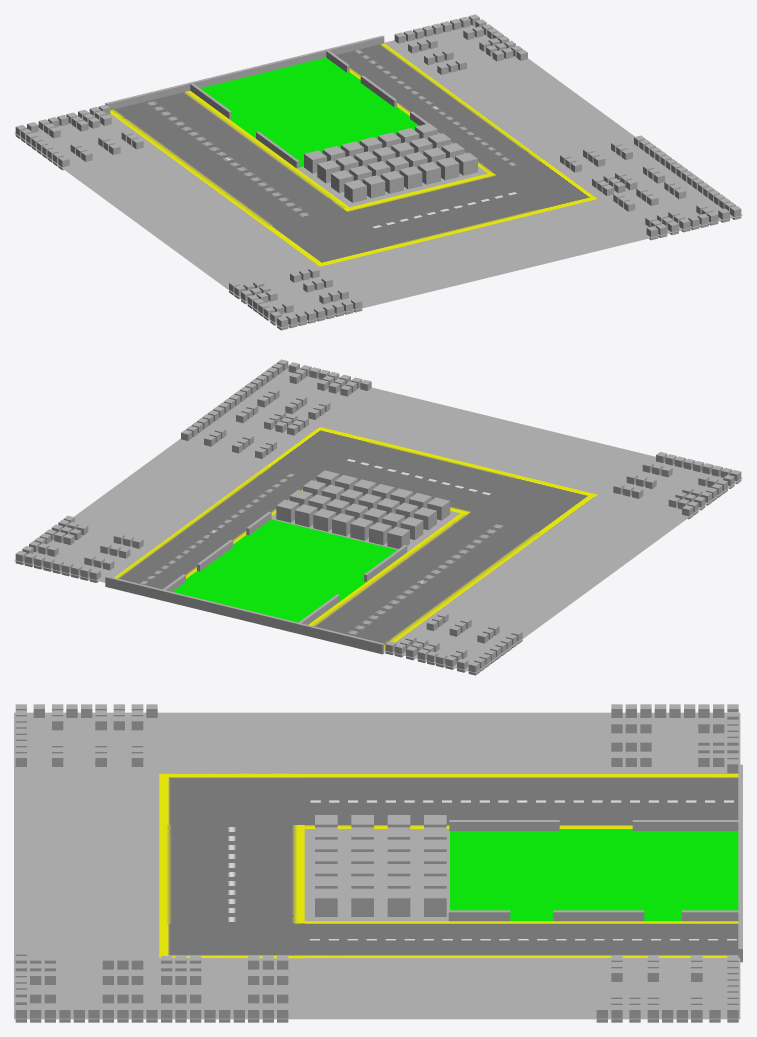
The model's file is map.fbx.
3 renders of one model, top to bottom at view 1: azimuth 30°, elevation 25°; view 2: azimuth 150°, elevation 25°; view 3: azimuth 270°, elevation 25°, orthographic. The views are drawn at different scales.
Parts seen in each view (by area): view 1: alley_Top, alley_Left, Road1, Park.001, alley_Right, Road3, Road2, Road5, pPlane1.002, pPlane1.004, pPlane1.003, Road4 (+5 smaller); view 2: alley_Top, alley_Left, Park.001, Road1, alley_Right, Road3, Road2, Road5, pPlane1.002, pPlane1.001, Road4, pPlane1 (+6 smaller); view 3: alley_Left, alley_Top, Park.001, Road1, alley_Right, Road3, Road2, Road5, pPlane1, pPlane1.003, pPlane, pPlane1.004 (+12 smaller).
Boxes of the visible parts, x1,y1,x2,y2 form: alley_Top: (320,199,650,305); alley_Left: (67,149,319,289); Road1: (110,91,349,227); Park.001: (200,57,418,167); alley_Right: (437,59,634,159); Road3: (336,43,543,173); Road2: (344,172,545,247); Road5: (266,209,396,266); pPlane1.002: (545,138,681,198); pPlane1.004: (14,113,159,171); pPlane1.003: (384,24,528,81); Road4: (493,160,596,211); alley_Top: (320,388,650,494); alley_Left: (437,495,689,634); Park.001: (172,519,396,622); Road1: (308,513,543,649); alley_Right: (74,443,265,543); Road3: (114,466,316,589); Road2: (328,439,519,514); Road5: (467,476,597,533); pPlane1.002: (174,406,319,465); pPlane1.001: (235,367,372,426); Road4: (267,427,370,477); pPlane1: (597,455,742,516); alley_Left: (159,712,594,773); alley_Top: (14,774,159,957); Park.001: (450,829,738,921); Road1: (304,774,738,828); alley_Right: (304,958,594,1019); Road3: (304,921,738,957); Road2: (159,825,304,923); Road5: (159,773,304,825); pPlane1: (14,712,159,773); pPlane1.003: (595,958,740,1019); pPlane: (304,829,449,921); pPlane1.004: (595,712,740,773).
Bounding box in the file's own units: 500 × 19.62 × 502.
